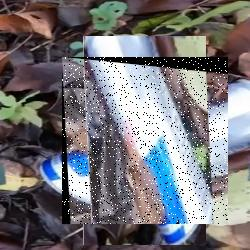metal: (62, 57, 228, 224)
